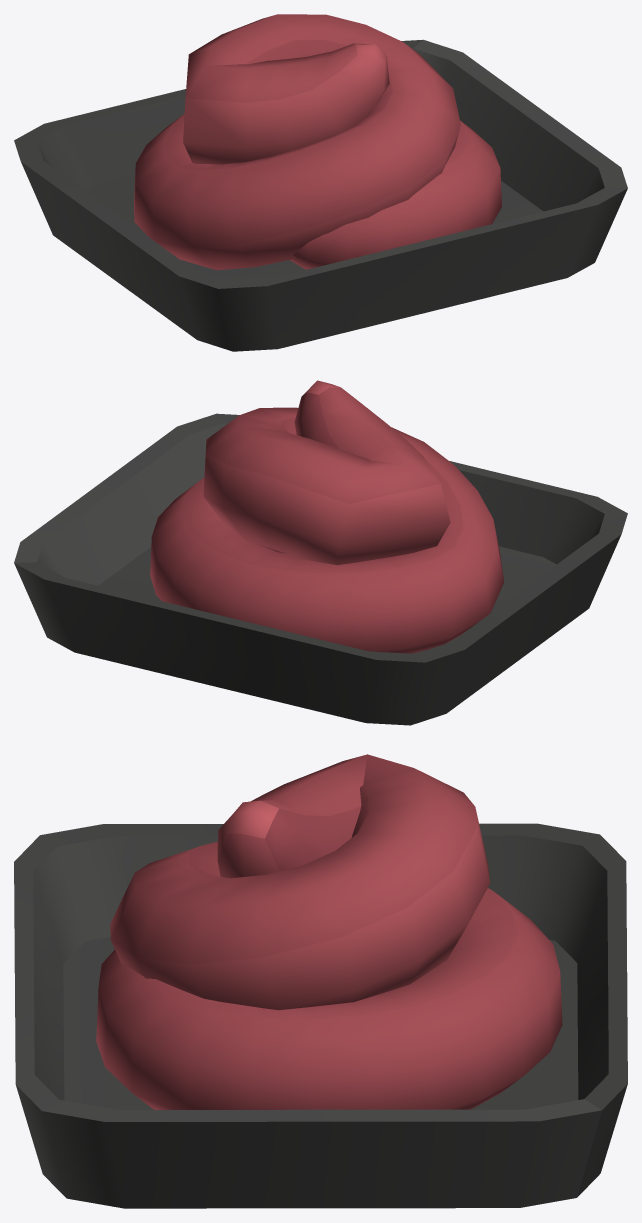
Rendered from 3D_Chopper_Items_Choppy.fbx.
3 renders of one model, top to bottom at view 1: azimuth 30°, elevation 25°; view 2: azimuth 150°, elevation 25°; view 3: azimuth 270°, elevation 25°, orthographic. The views are drawn at different scales.
Parts seen in each view (by area): view 1: 3D_Chopper_Items_Choppy; view 2: 3D_Chopper_Items_Choppy; view 3: 3D_Chopper_Items_Choppy.
Boxes of the visible parts, x1=… form: 3D_Chopper_Items_Choppy: x1=14, y1=14, x2=627, y2=351; 3D_Chopper_Items_Choppy: x1=14, y1=380, x2=627, y2=725; 3D_Chopper_Items_Choppy: x1=14, y1=754, x2=627, y2=1208.
Bounding box in the file's own units: 61.1 × 27.2 × 53.11.
